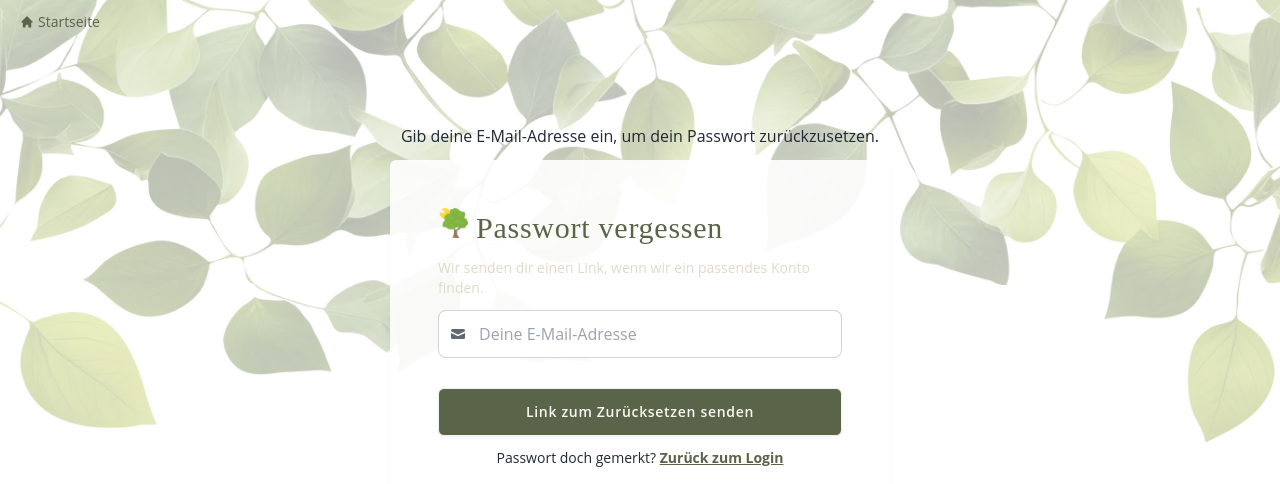
Test: Forgot password page › shows a validation error if an invalid email is submitted
The width and height of the screenshot is (1280, 484).
In the field with placeholder "Deine E-Mail-Adresse": (640, 334) [438,310,842,358], type "not-an-email"
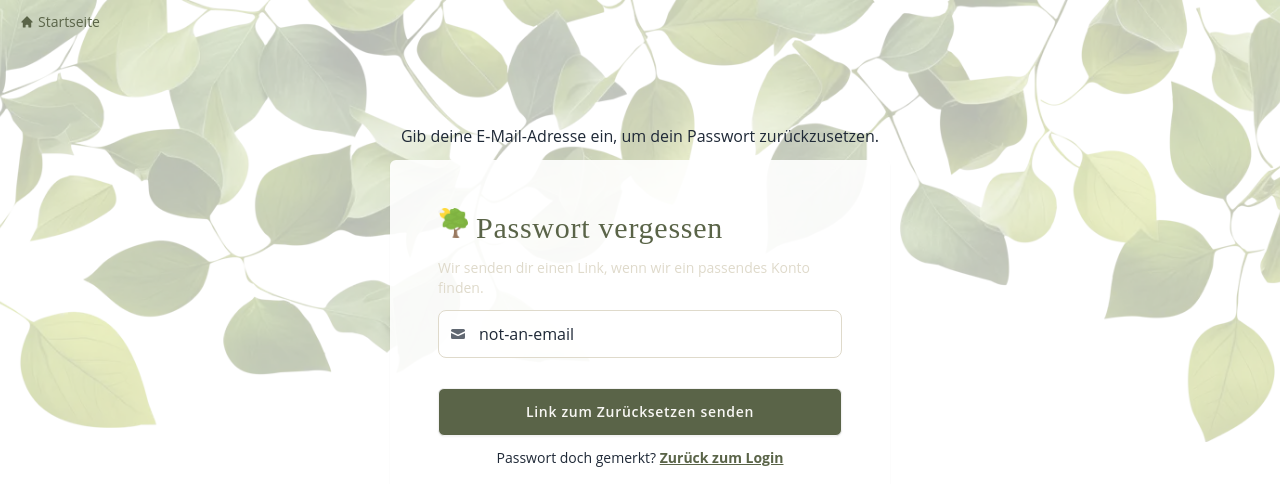
Click the button "Link zum Zurücksetzen senden": (640, 412) [438,388,842,436]
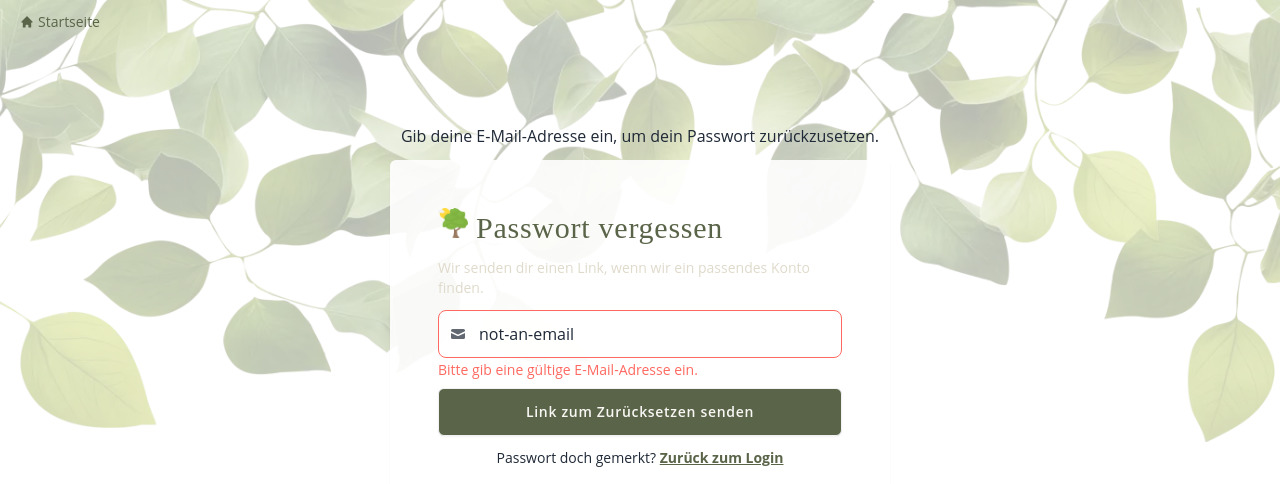
Now the text "Bitte gib eine gültige E-Mail-Adresse ein." is shown, box [438,360,698,379]
